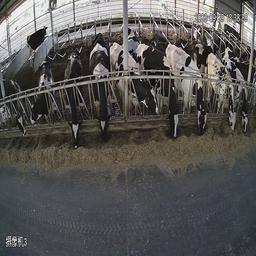cow: (113, 43, 159, 117), (184, 53, 213, 137), (157, 47, 182, 139), (90, 36, 111, 145), (213, 57, 239, 135), (28, 59, 54, 127), (63, 51, 80, 150), (4, 79, 29, 137), (25, 23, 48, 56), (241, 66, 248, 135)
